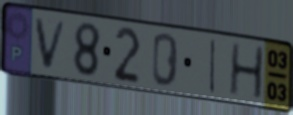0: (151, 31, 180, 89)
2: (113, 25, 144, 87)
8: (72, 20, 103, 79)
H: (228, 42, 266, 102)
I: (208, 37, 218, 96)
V: (33, 16, 70, 72)
